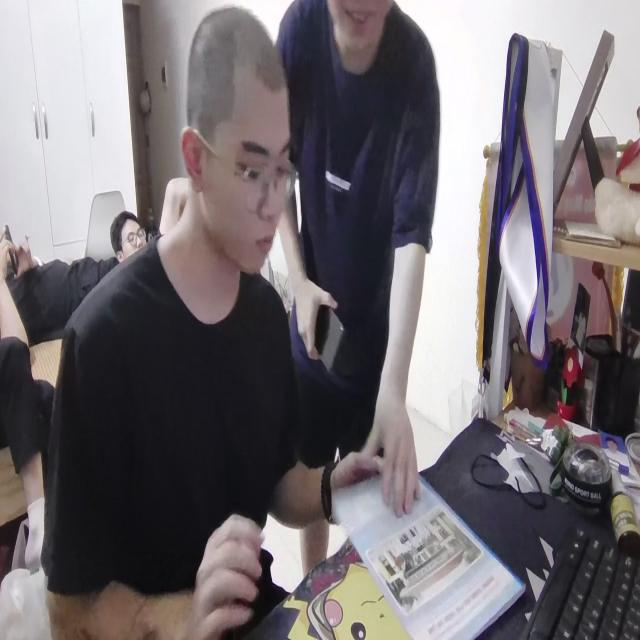book: (323, 449, 528, 640)
extra_person: (274, 1, 448, 542), (105, 208, 152, 257)
student: (44, 14, 386, 640)
